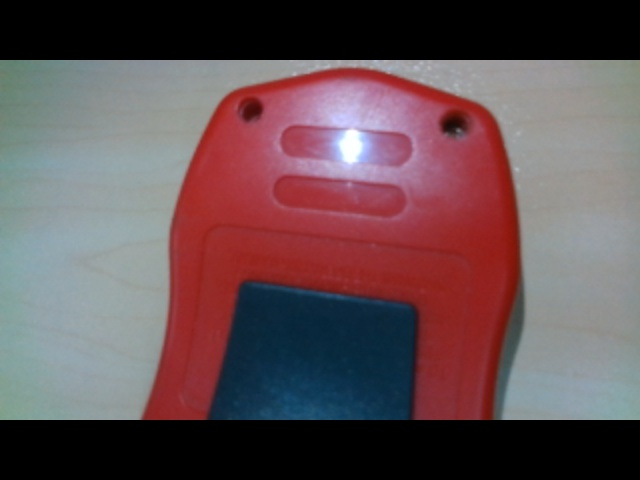Screw holes: (439, 109, 476, 140), (236, 94, 265, 125)
